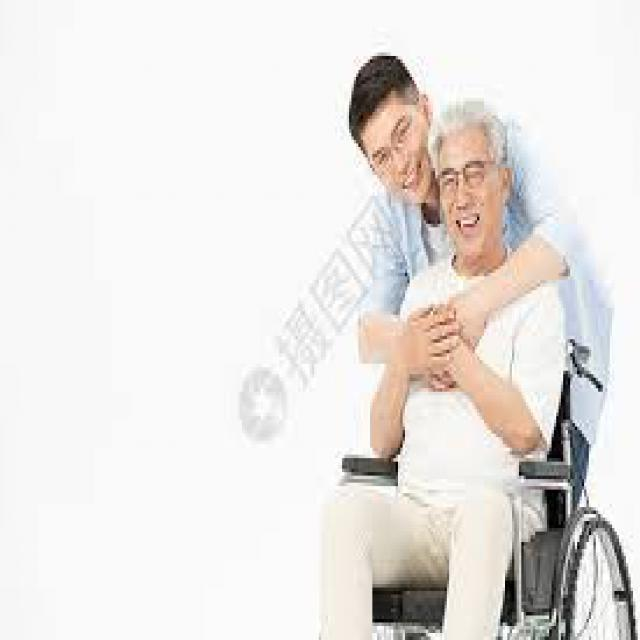wheelchairs: (335, 314, 635, 636)
